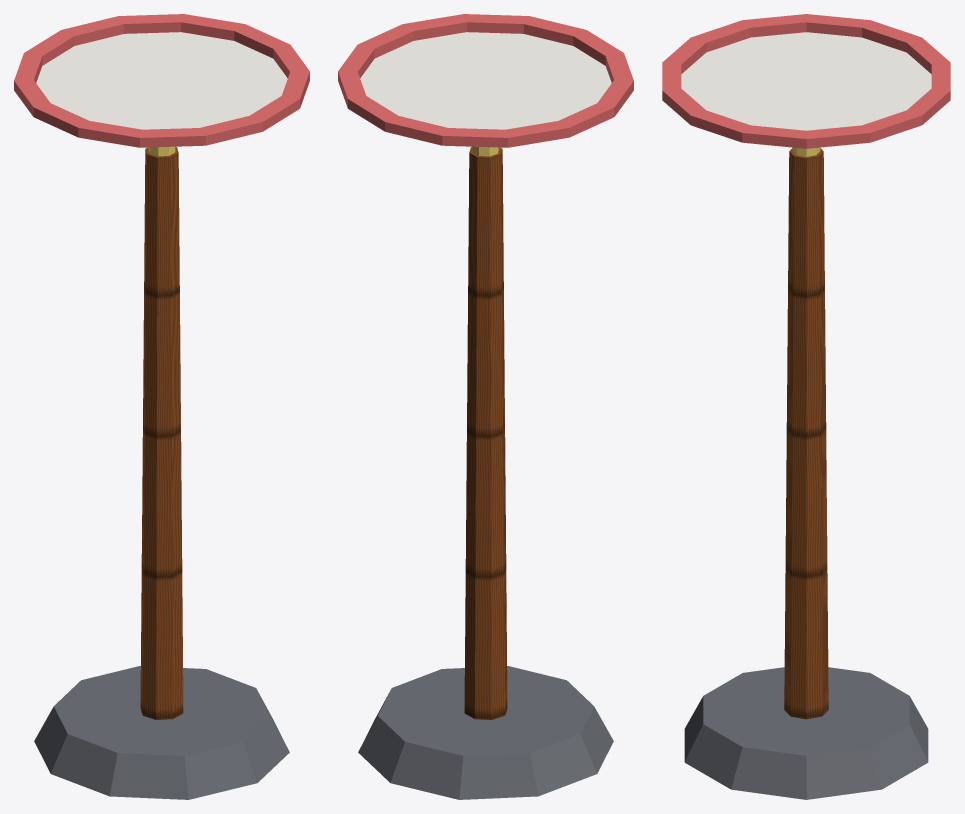
Rendered from travelling-circus-and-big-top-spinning-plate-stand-9fd77150__36250.glb.
The picture shows the model from 3 angles, left to right: view 1: azimuth 30°, elevation 25°; view 2: azimuth 150°, elevation 25°; view 3: azimuth 270°, elevation 25°; orthographic projection.
Parts seen in each view (by area): view 1: spinning-plate-stand-charcoal, spinning-plate-stand-timber, plate/canvas, plate/stripe; view 2: spinning-plate-stand-charcoal, spinning-plate-stand-timber, plate/canvas, plate/stripe; view 3: spinning-plate-stand-charcoal, spinning-plate-stand-timber, plate/canvas, plate/stripe.
Part boxes in pixels (bbox=[...]): spinning-plate-stand-charcoal: bbox=[34, 666, 289, 799]; spinning-plate-stand-timber: bbox=[140, 146, 183, 719]; plate/canvas: bbox=[36, 32, 287, 146]; plate/stripe: bbox=[14, 14, 309, 147]; spinning-plate-stand-charcoal: bbox=[358, 666, 613, 799]; spinning-plate-stand-timber: bbox=[464, 146, 507, 719]; plate/canvas: bbox=[360, 32, 611, 146]; plate/stripe: bbox=[338, 14, 633, 147]; spinning-plate-stand-charcoal: bbox=[684, 667, 928, 799]; spinning-plate-stand-timber: bbox=[784, 148, 828, 719]; plate/canvas: bbox=[681, 32, 931, 130]; plate/stripe: bbox=[662, 14, 950, 148].
Size of the model in its own units: 0.6 by 1.5 by 0.585.
Materials: 5 (1 with a texture image).
